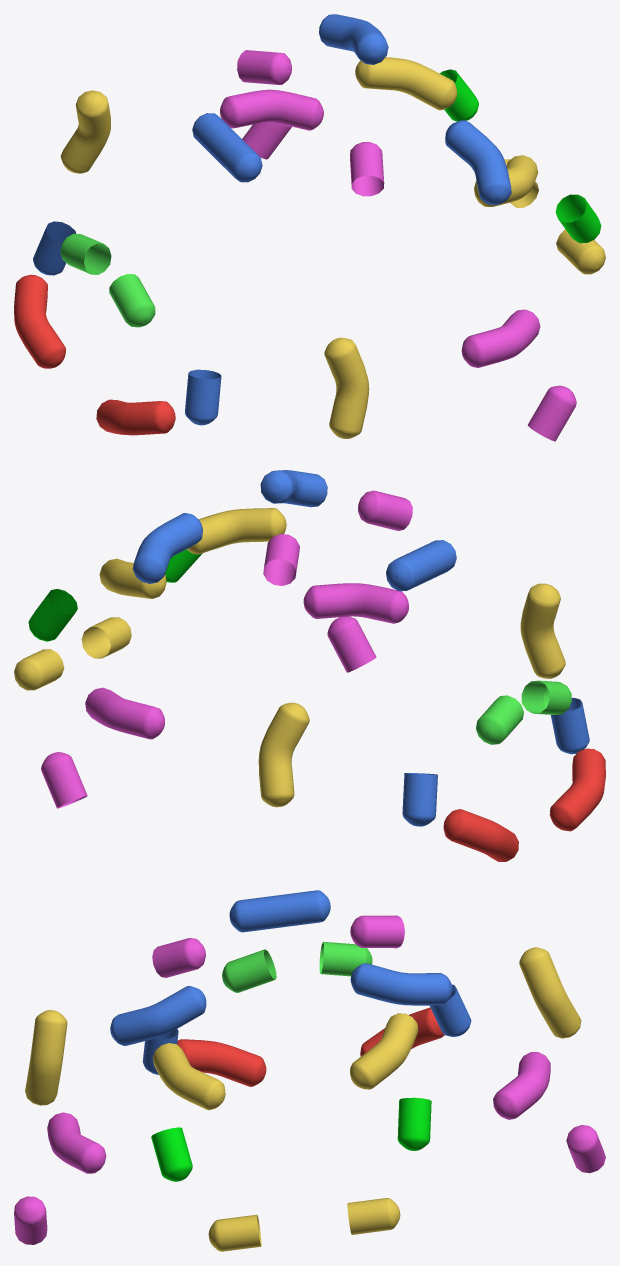
File: PepitasColorinesColocadas.fbx
3 views of the same model, one above another, from view 1: azimuth 30°, elevation 25°; view 2: azimuth 150°, elevation 25°; view 3: azimuth 270°, elevation 25° (orthographic). The views are drawn at different scales.
Parts seen in each view (by area): view 1: Pepitas; view 2: Pepitas; view 3: Pepitas.
Part boxes in pixels (x1,y1,x2,y2): Pepitas: [14, 14, 605, 441]; Pepitas: [14, 470, 605, 861]; Pepitas: [14, 890, 605, 1251].
Bounding box in the file's own units: 292 × 161 × 311.
